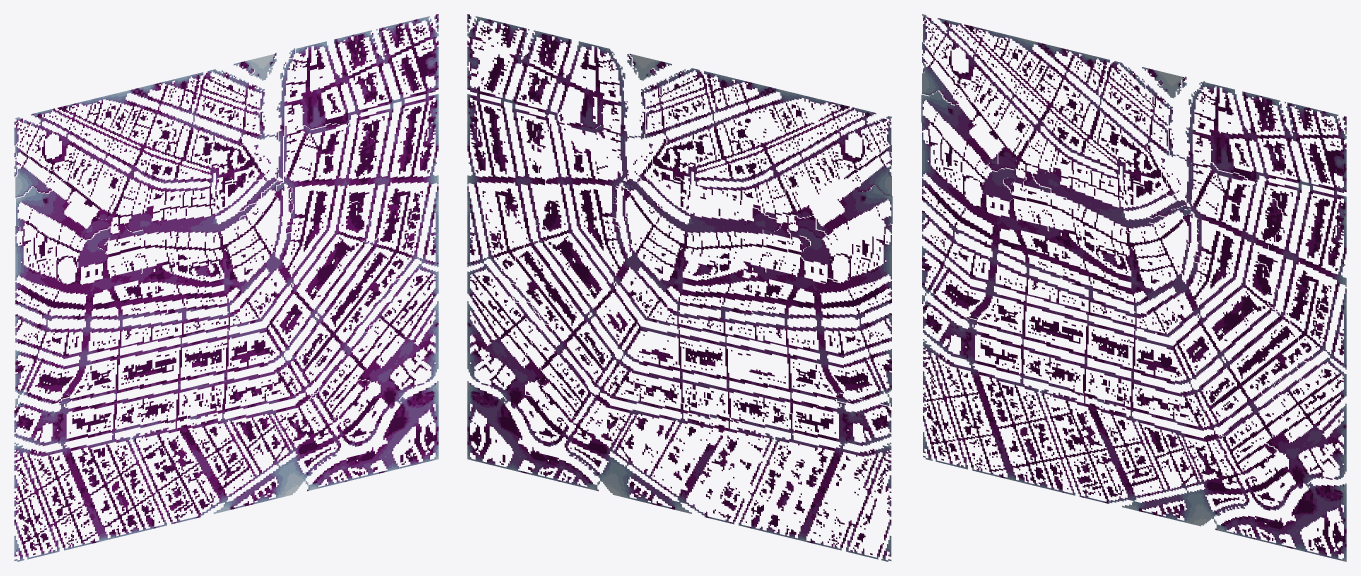
The model's file is amsterdam_svf.obj.
3 renders of one model, left to right at view 1: azimuth 30°, elevation 25°; view 2: azimuth 150°, elevation 25°; view 3: azimuth 330°, elevation 25°, orthographic.
Bounding box in the file's own units: 1500 × 1505 × 15.
